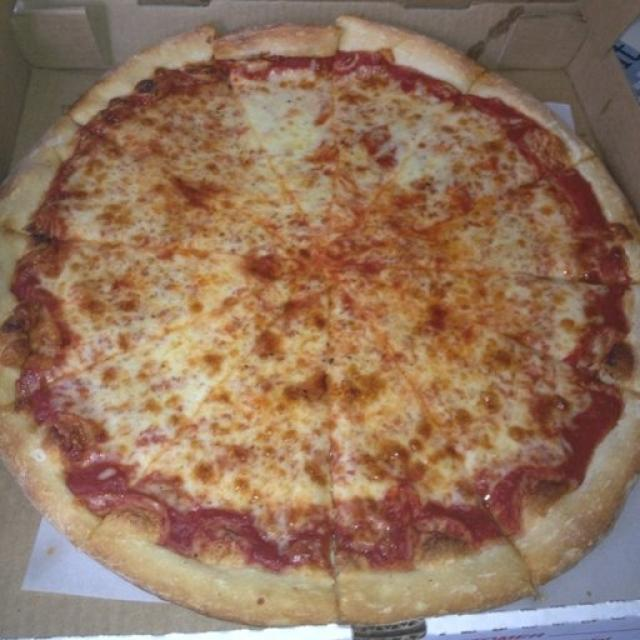Pizza: (0, 14, 640, 630)
